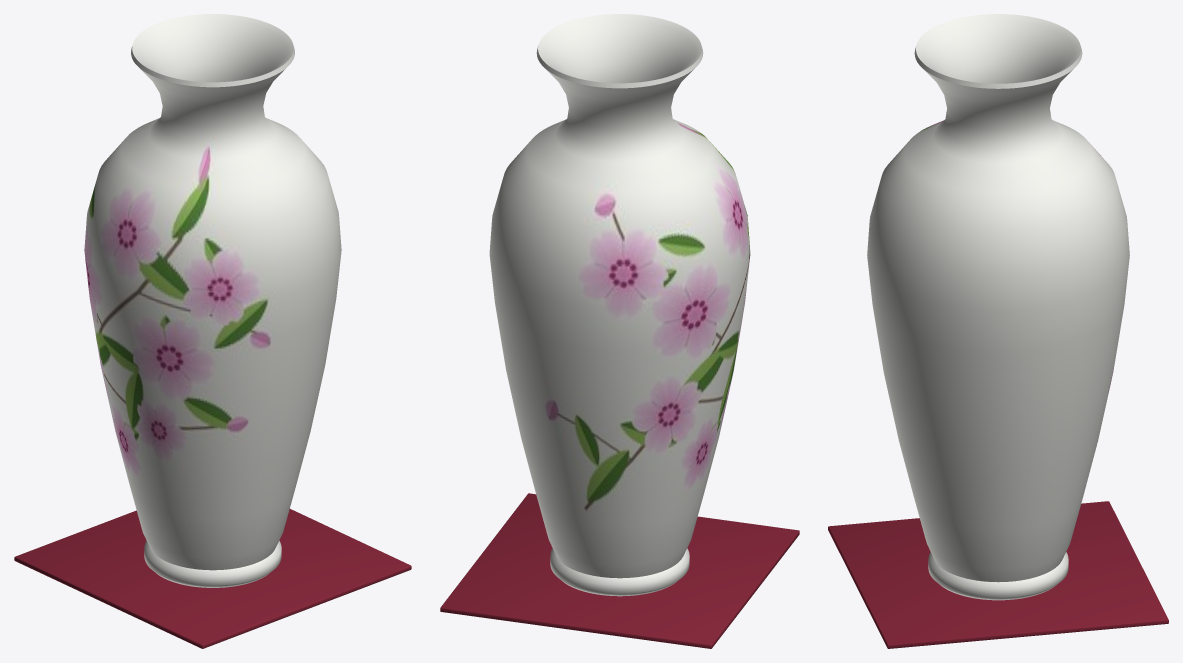
Rendered from recevrTAlAO9twOyv.glb.
3 renders of one model, left to right at view 1: azimuth 30°, elevation 25°; view 2: azimuth 150°, elevation 25°; view 3: azimuth 270°, elevation 25°, orthographic. The views are drawn at different scales.
Parts seen in each view (by area): view 1: Vase_Fleuri_Corps; view 2: Vase_Fleuri_Corps; view 3: Vase_Fleuri_Corps.
Boxes of the visible parts, bbox=[...] form: Vase_Fleuri_Corps: bbox=[14, 14, 411, 648]; Vase_Fleuri_Corps: bbox=[440, 14, 799, 648]; Vase_Fleuri_Corps: bbox=[828, 14, 1168, 648].
Size of the model in its own units: 0.2725 by 0.466 by 0.2725.
Materials: 2 (1 with a texture image).
